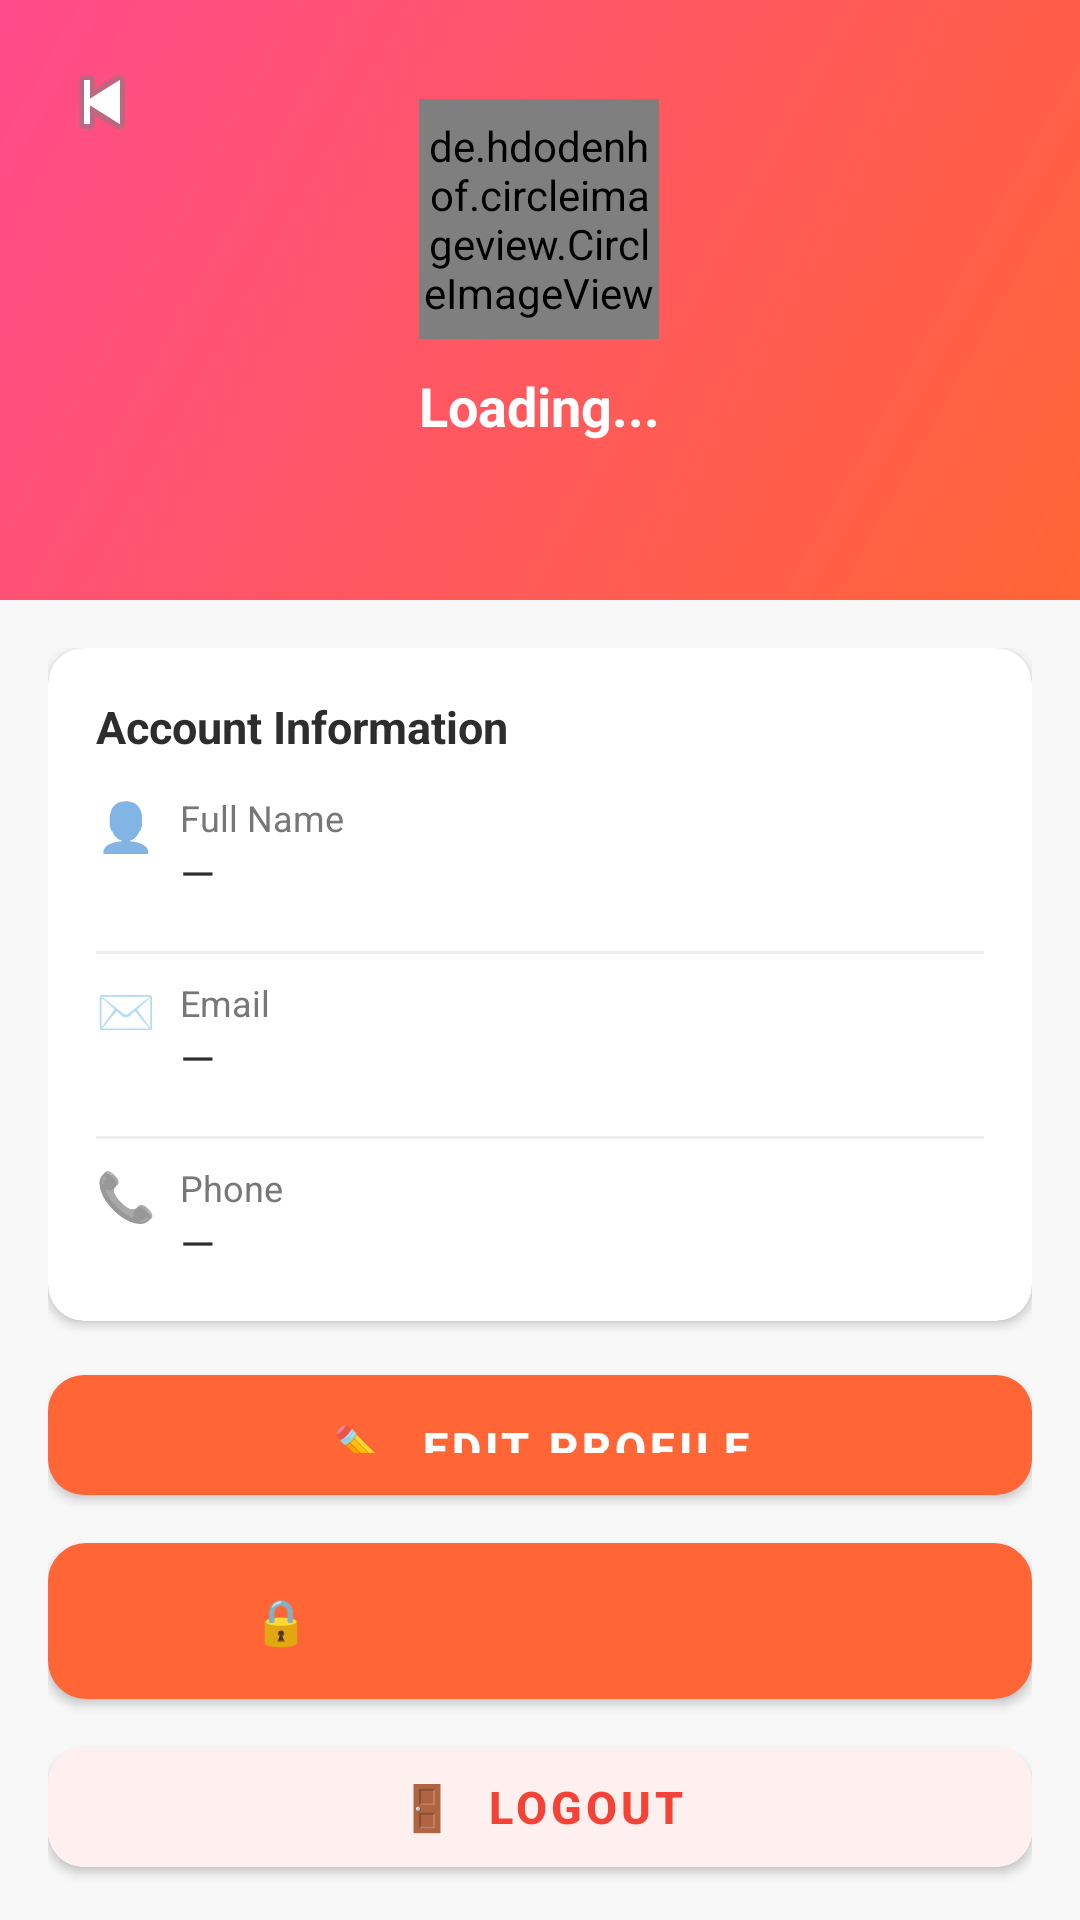

Screen size 1080×1920. Icon name, then its box in pixels as (x1, y1, x2, y2):
Back: (79, 75, 125, 129)
